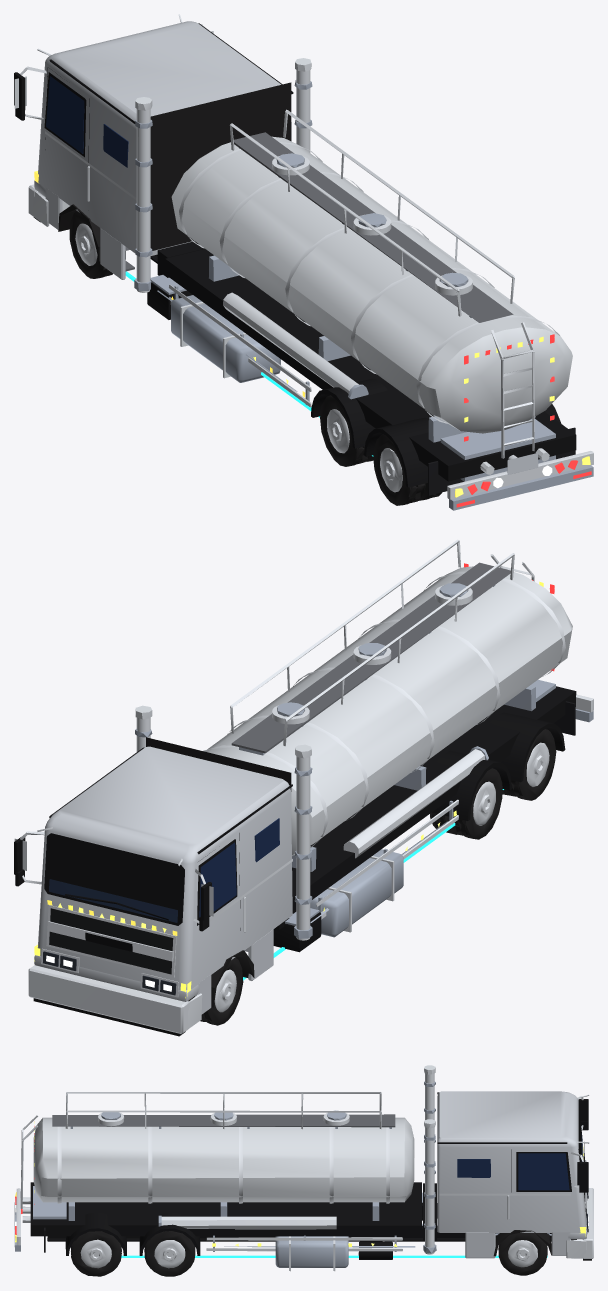
Rendered from dekotora_truck_tanker_lod1.glb.
3 views of the same model, one above another, from view 1: azimuth 30°, elevation 25°; view 2: azimuth 150°, elevation 25°; view 3: azimuth 270°, elevation 25° (orthographic). The views are drawn at different scales.
Parts seen in each view (by area): view 1: lod1_tank_shell, lod1_paint_white_panel, lod1_chrome, lod1_plastic_black, lod1_steel, lod1_plastic_trim, lod1_diamond, lod1_rubber_tire, lod1_glass, lod1_lamp_red, lod1_rubber; view 2: lod1_tank_shell, lod1_paint_white_panel, lod1_chrome, lod1_plastic_black, lod1_steel, lod1_diamond, lod1_rubber_tire, lod1_vent_slots, lod1_glass, lod1_plastic_trim, lod1_glass_wind, lod1_glass_lens; view 3: lod1_tank_shell, lod1_paint_white_panel, lod1_plastic_black, lod1_chrome, lod1_steel, lod1_rubber_tire, lod1_diamond, lod1_glass, lod1_lamp_cyan, lod1_plastic_trim.
Part boxes in pixels (x1,y1,x2,y2): lod1_tank_shell: (171,136,572,433); lod1_paint_white_panel: (34,21,291,279); lod1_chrome: (14,14,593,499); lod1_plastic_black: (14,23,576,487); lod1_steel: (134,80,593,510); lod1_plastic_trim: (58,82,291,261); lod1_diamond: (125,132,513,322); lod1_rubber_tire: (69,211,441,505); lod1_glass: (46,76,128,167); lod1_lamp_red: (456,334,591,507); lod1_rubber: (125,251,575,495); lod1_tank_shell: (205,566,572,855); lod1_paint_white_panel: (34,746,292,1014); lod1_chrome: (14,539,593,1033); lod1_plastic_black: (14,686,576,1036); lod1_steel: (135,583,593,938); lod1_diamond: (231,562,510,951); lod1_rubber_tire: (200,729,556,1025); lod1_vent_slots: (49,908,173,974); lod1_glass: (199,818,279,917); lod1_plastic_trim: (146,737,291,1007); lod1_glass_wind: (49,879,177,922); lod1_glass_lens: (43,951,176,995); lod1_tank_shell: (33,1117,414,1202); lod1_paint_white_panel: (437,1091,586,1258); lod1_plastic_black: (30,1092,591,1260); lod1_chrome: (16,1065,593,1271); lod1_steel: (14,1081,551,1267); lod1_rubber_tire: (71,1231,547,1276); lod1_diamond: (52,1114,395,1127); lod1_glass: (457,1153,569,1190); lod1_lamp_cyan: (121,1255,547,1257); lod1_plastic_trim: (493,1230,551,1256).
Size of the model in its own units: 3.24 by 3.55 by 11.82.
Materials: 19 (6 with a texture image).
